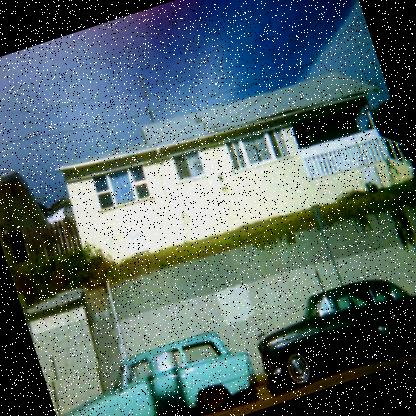Car: (247, 254, 415, 405), (48, 322, 262, 415)
